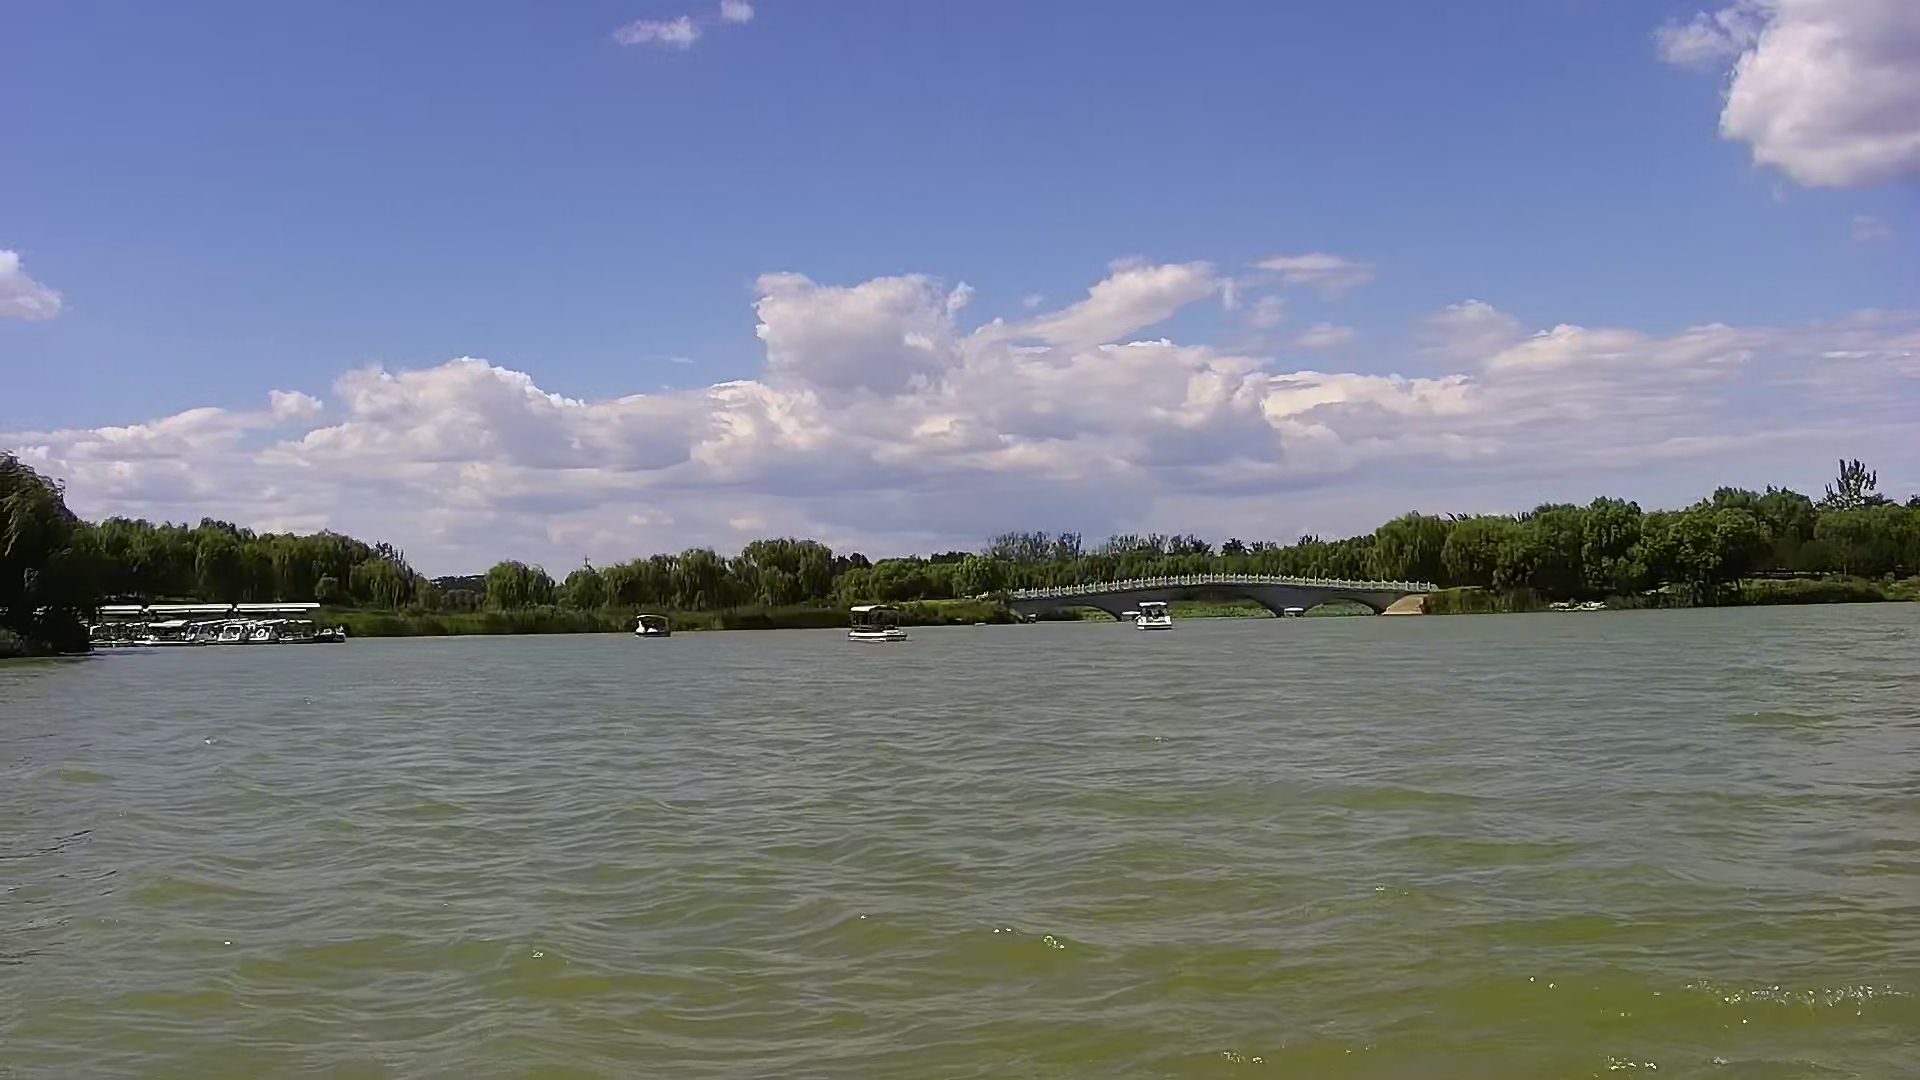boat: (844, 592, 913, 650), (629, 609, 678, 645), (1131, 600, 1178, 636)
bridge: (1010, 571, 1429, 633)
harbor: (94, 597, 355, 651)
